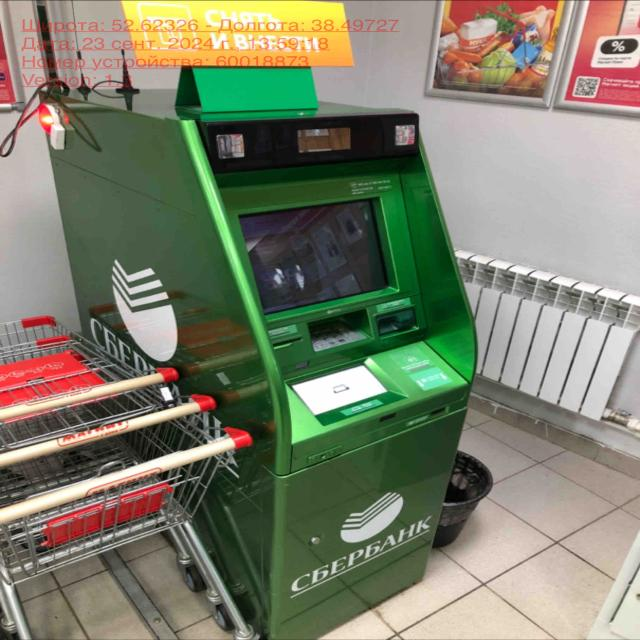bank: (37, 87, 474, 640)
